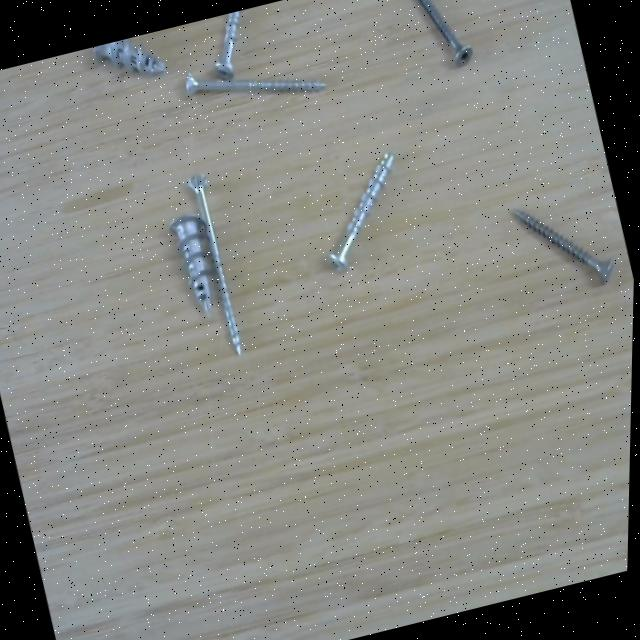Black screw: (508, 192, 627, 297), (412, 0, 482, 76)
Long screw: (185, 168, 247, 360), (182, 67, 336, 101)
Medium screw: (322, 143, 406, 283), (208, 8, 253, 80)
Short screw: (162, 208, 219, 320), (89, 41, 174, 83)
